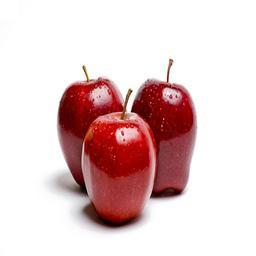apple: (82, 107, 156, 227), (57, 76, 129, 186), (133, 80, 197, 196)
